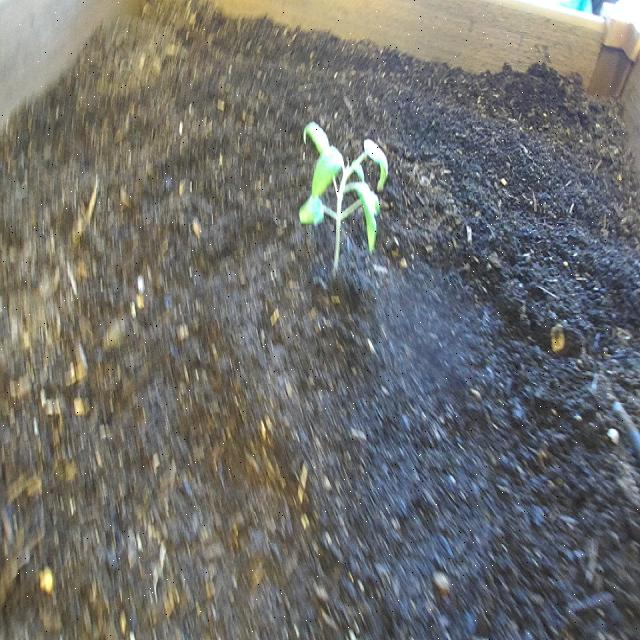Healthy: (292, 102, 393, 289)
